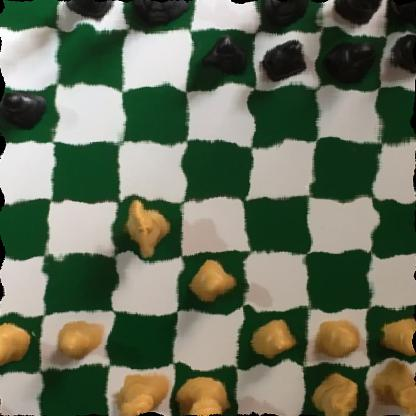black-bishop: (258, 0, 311, 28), (64, 0, 121, 21)
black-king: (129, 0, 185, 25)
black-knight: (333, 0, 384, 28)
black-pawn: (195, 37, 250, 82), (262, 37, 309, 85), (324, 40, 375, 84), (0, 89, 48, 128), (385, 30, 416, 74)
black-rook: (380, 0, 416, 33)
white-king: (173, 366, 232, 416)
white-knight: (119, 200, 172, 260), (307, 372, 362, 416)
white-pawn: (48, 316, 113, 361), (314, 316, 365, 362), (186, 262, 243, 303), (246, 316, 296, 361), (373, 313, 416, 359), (0, 320, 30, 367)
white-queen: (109, 365, 170, 416)
white-rook: (366, 360, 416, 416)
